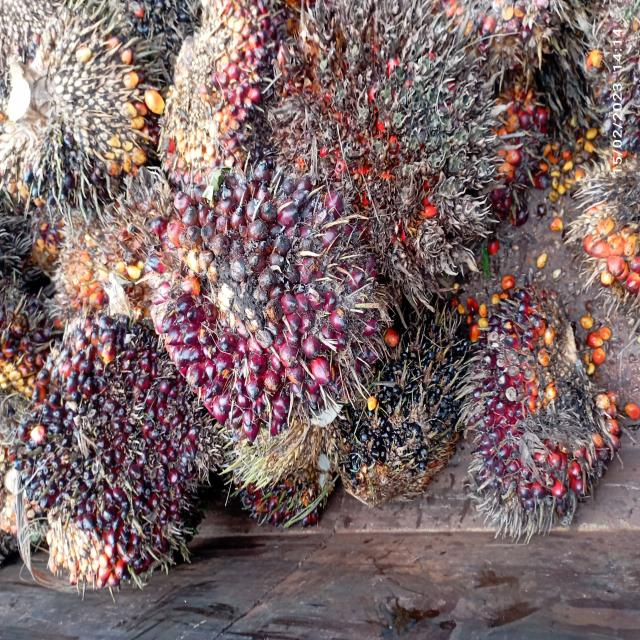fraksi 00: (2, 303, 229, 592), (298, 292, 490, 518), (0, 4, 181, 203)
fraksi 1: (126, 133, 410, 493), (440, 264, 628, 542), (148, 0, 300, 206)
fraksi 4: (261, 0, 510, 295)
